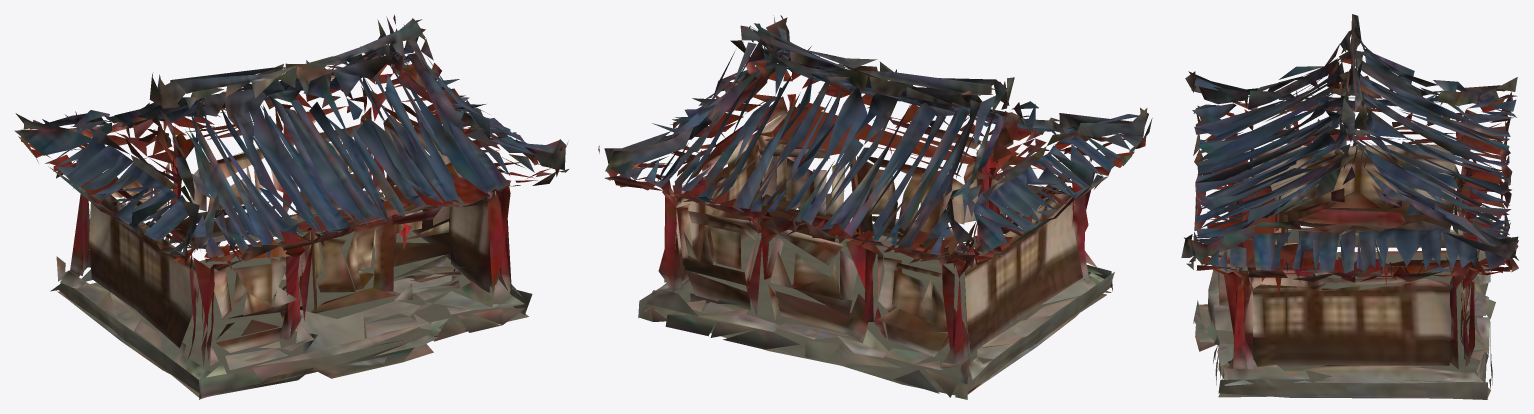
File: casa_p_lod2.glb
3 renders of one model, left to right at view 1: azimuth 30°, elevation 25°; view 2: azimuth 150°, elevation 25°; view 3: azimuth 270°, elevation 25°, orthographic. The views are drawn at different scales.
Visible parts, largest first — view 1: casa_p; view 2: casa_p; view 3: casa_p.
Boxes of the visible parts, box(x1,y1,x2,y2) form: casa_p: box(14, 14, 568, 399); casa_p: box(598, 15, 1152, 399); casa_p: box(1181, 14, 1518, 399).
Bounding box in the file's own units: 6.83 × 4.54 × 5.49.
Materials: 1 (1 with a texture image).
